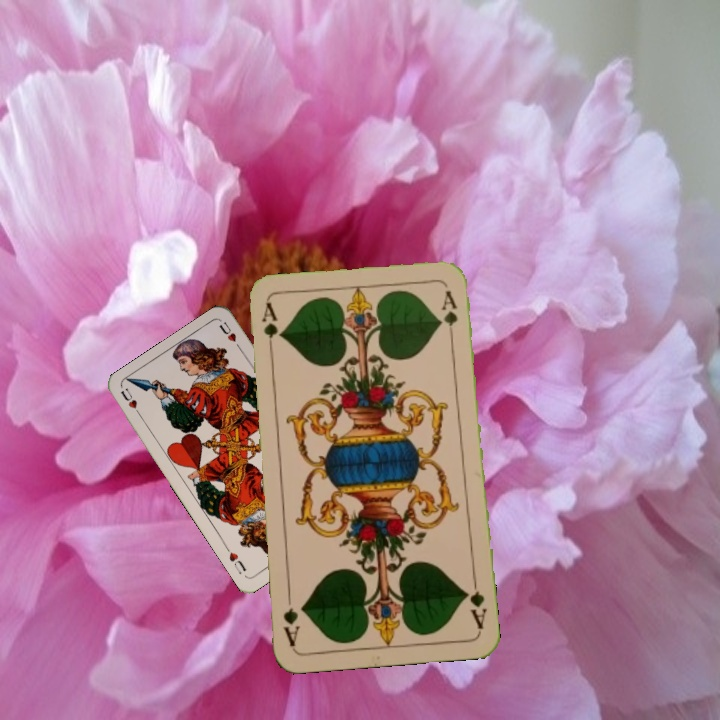GA: (461, 573, 490, 631), (257, 299, 280, 358)
HU: (117, 384, 145, 421)
